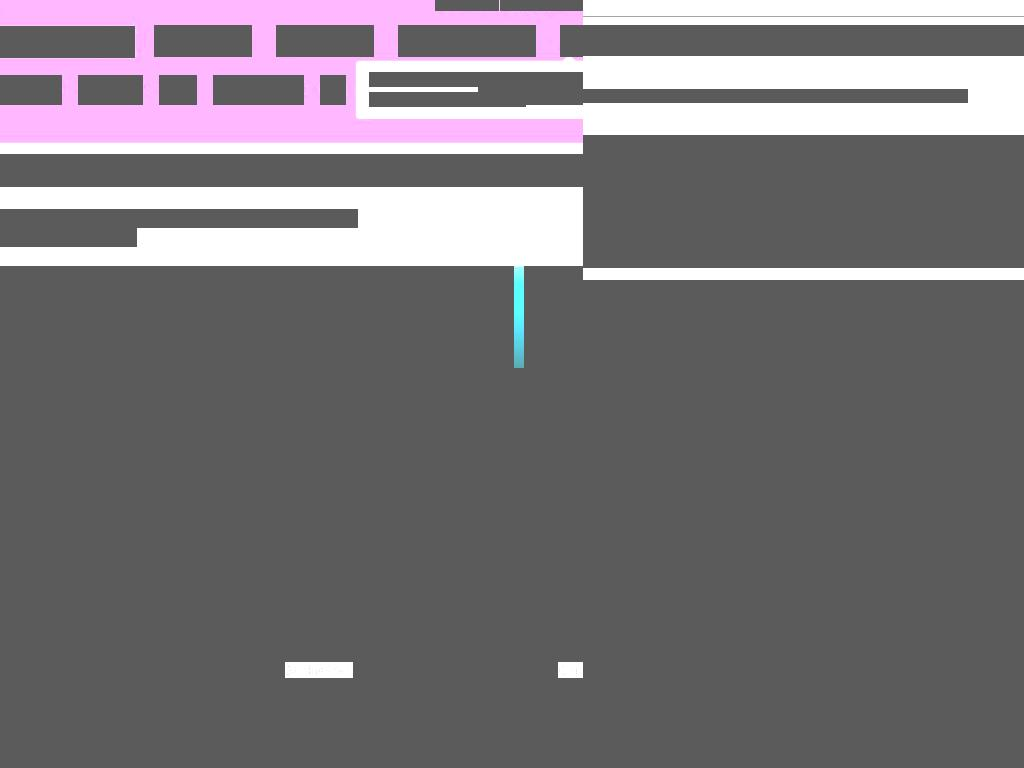button: (583, 368, 1024, 651), (0, 266, 514, 368), (583, 280, 1024, 368), (63, 409, 333, 450), (63, 465, 333, 506), (398, 25, 536, 57), (478, 75, 583, 105), (154, 25, 252, 57), (276, 25, 374, 57), (733, 25, 828, 56), (213, 75, 304, 105), (585, 25, 667, 56), (902, 25, 982, 56), (828, 25, 902, 56), (605, 89, 755, 103), (667, 25, 733, 56), (78, 75, 143, 105), (0, 75, 62, 105), (754, 89, 869, 103), (868, 89, 968, 103), (982, 25, 1024, 56), (159, 75, 197, 105), (103, 26, 135, 58), (320, 75, 346, 105), (560, 25, 583, 57), (435, 0, 499, 11), (500, 0, 564, 11), (583, 89, 606, 103)
field: (388, 435, 583, 468), (388, 491, 583, 524), (0, 26, 135, 58)
iframe: (583, 135, 1024, 268)
image: (0, 368, 583, 768), (583, 368, 1024, 651), (583, 280, 1024, 368)
link: (583, 368, 1024, 768), (0, 209, 358, 228), (0, 228, 137, 247), (63, 522, 175, 538), (388, 532, 494, 548), (111, 558, 208, 574), (237, 558, 318, 574), (285, 662, 353, 678), (142, 662, 207, 678), (477, 662, 542, 678), (430, 619, 493, 635), (371, 619, 424, 635), (223, 662, 270, 678), (318, 619, 364, 635), (224, 619, 269, 635), (367, 662, 411, 678), (525, 619, 564, 635), (180, 619, 218, 635), (275, 619, 311, 635), (426, 662, 462, 678), (92, 662, 127, 678), (558, 662, 583, 678)
text: (0, 154, 583, 187), (63, 522, 296, 574), (388, 409, 583, 428), (369, 72, 583, 87), (128, 475, 301, 493), (137, 419, 290, 437), (369, 92, 526, 107), (302, 679, 410, 698), (493, 619, 527, 635), (147, 619, 180, 635), (208, 558, 238, 574), (217, 619, 226, 635), (311, 619, 320, 635), (423, 619, 432, 635), (174, 522, 182, 538), (268, 619, 276, 635), (364, 619, 372, 635), (317, 558, 322, 574)
